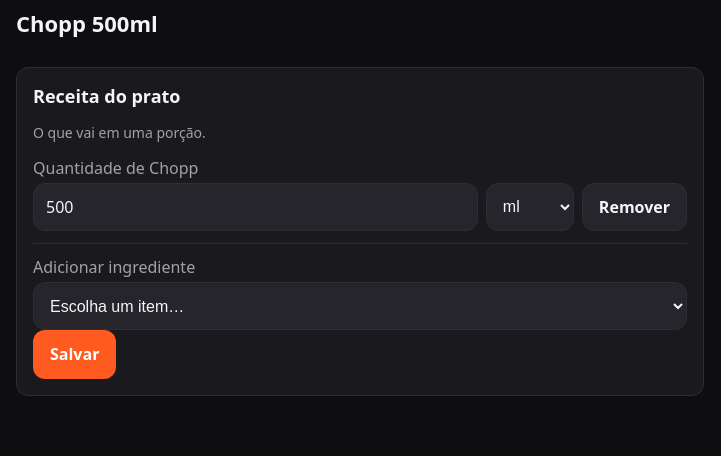
Test: Receitas › quantidade inválida não salva
Replace the text in the field labelled "Quantidade de Chopp" with "0": (255, 207) [33,183,478,231]
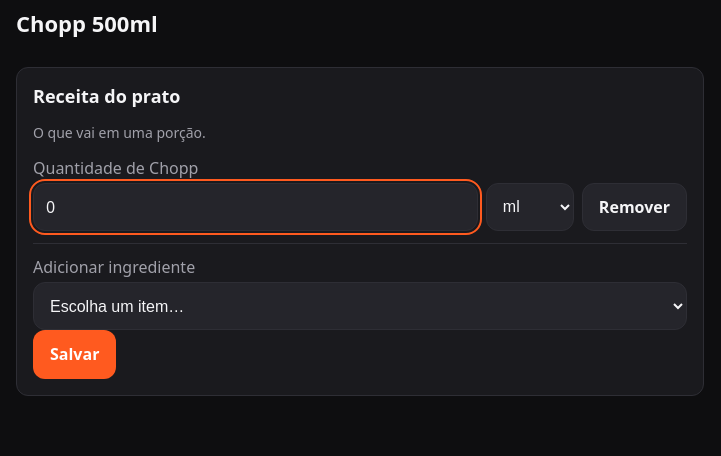
Click the button "Salvar": (75, 355) [33,330,116,379]
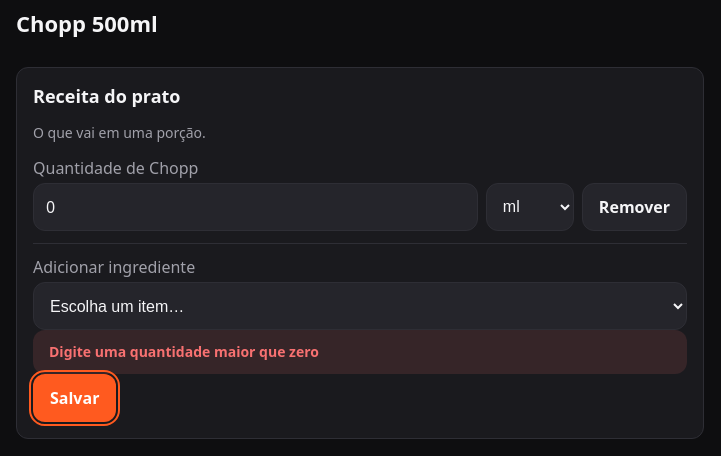
Result: the message reads "Digite uma quantidade maior que zero" at [49,342,319,361]
